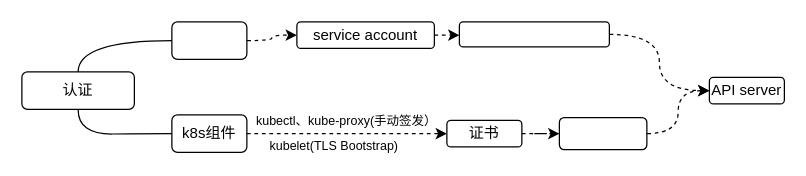
Image size: 806x176. Some labels were removed from this diagram. The shapes that lost their labels are listed below. From the top down, each one's centre as x and y in pixels, then its label:
the point at 209,40: Pod
the point at 533,34: service account-token
the point at 602,133: kubeconfig
